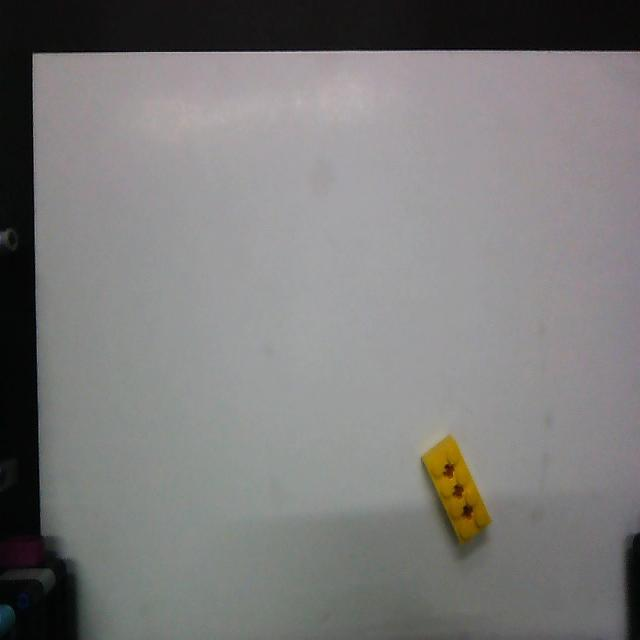lego_brick: (422, 435, 490, 543)
